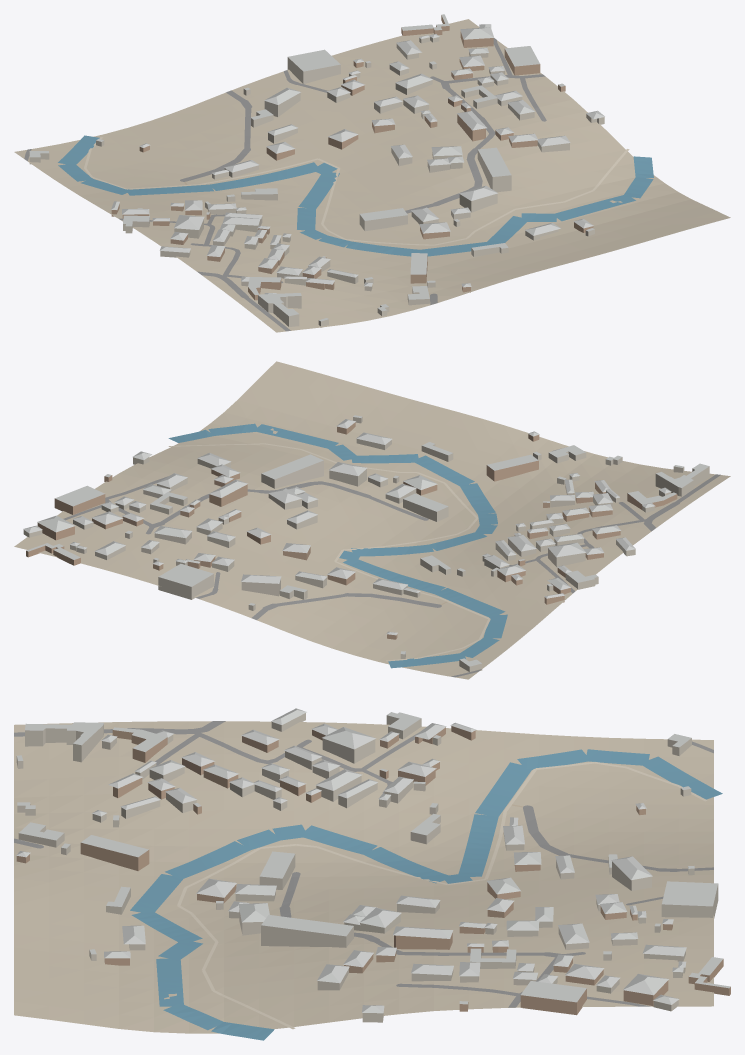
The model's file is bolak_-4_-7.glb.
The picture shows the model from 3 angles, top to bottom: view 1: azimuth 30°, elevation 25°; view 2: azimuth 150°, elevation 25°; view 3: azimuth 270°, elevation 25°; orthographic projection. The views are drawn at different scales.
Visible parts, largest first — view 1: Yer_Tuproq-col, Tom_Shifer, Devor_Suvoq-col, Suv, Devor_Gisht-col, Yol_Mahalla-col, Yol_Piyoda; view 2: Yer_Tuproq-col, Tom_Shifer, Devor_Suvoq-col, Suv, Devor_Gisht-col, Yol_Mahalla-col, Yol_Piyoda; view 3: Yer_Tuproq-col, Tom_Shifer, Devor_Suvoq-col, Suv, Devor_Gisht-col, Yol_Mahalla-col, Yol_Piyoda.
Part boxes in pixels (x1,y1,x2,y2): Yer_Tuproq-col: [14, 19, 730, 332]; Tom_Shifer: [29, 14, 604, 321]; Devor_Suvoq-col: [29, 36, 604, 327]; Suv: [58, 135, 653, 256]; Devor_Gisht-col: [111, 15, 593, 300]; Yol_Mahalla-col: [24, 38, 546, 331]; Yol_Piyoda: [84, 137, 629, 245]; Yer_Tuproq-col: [14, 361, 730, 679]; Tom_Shifer: [23, 415, 709, 666]; Devor_Suvoq-col: [23, 417, 709, 671]; Suv: [168, 423, 507, 668]; Devor_Gisht-col: [26, 422, 677, 639]; Yol_Mahalla-col: [63, 448, 720, 677]; Yol_Piyoda: [168, 443, 490, 661]; Yer_Tuproq-col: [14, 721, 713, 1033]; Tom_Shifer: [16, 708, 730, 1013]; Devor_Suvoq-col: [16, 713, 718, 1022]; Suv: [130, 749, 722, 1040]; Devor_Gisht-col: [16, 726, 730, 1015]; Yol_Mahalla-col: [14, 721, 713, 1007]; Yol_Piyoda: [177, 762, 707, 1029].
Size of what is drawn, in the model's own units: 422 by 33.09 by 410.
